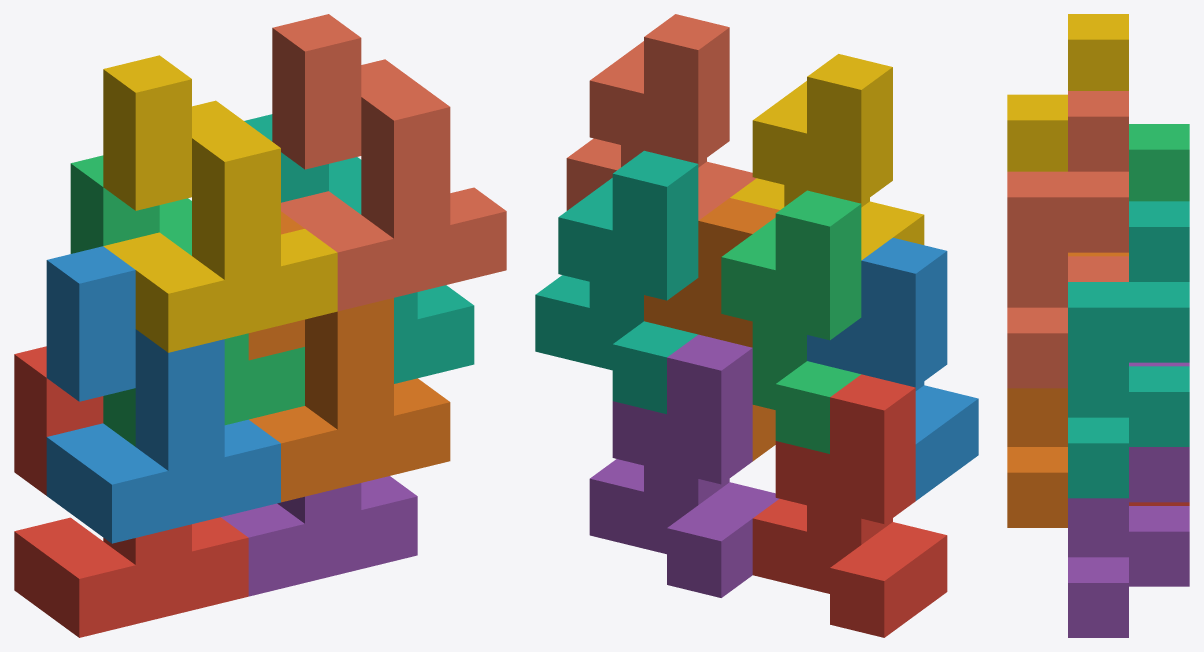
File: tiling.obj
3 renders of one model, left to right at view 1: azimuth 30°, elevation 25°; view 2: azimuth 150°, elevation 25°; view 3: azimuth 270°, elevation 25°, orthographic. The views are drawn at different scales.
Visible parts, largest first — view 1: copy_1_domain_4, copy_1_domain_2, copy_1_domain_8, copy_1_domain_1, copy_1_domain_6, copy_1_domain_5, copy_1_domain_3, copy_1_domain_7; view 2: copy_1_domain_1, copy_1_domain_5, copy_1_domain_7, copy_1_domain_3, copy_1_domain_8, copy_1_domain_4, copy_1_domain_2, copy_1_domain_6; view 3: copy_1_domain_7, copy_1_domain_8, copy_1_domain_5, copy_1_domain_4, copy_1_domain_6, copy_1_domain_3.
Boxes of the visible parts, x1,y1,x2,y2 form: copy_1_domain_4: [103, 55, 337, 352]; copy_1_domain_2: [46, 246, 280, 543]; copy_1_domain_8: [272, 14, 506, 311]; copy_1_domain_1: [14, 346, 248, 637]; copy_1_domain_6: [248, 211, 450, 502]; copy_1_domain_5: [221, 476, 417, 596]; copy_1_domain_3: [70, 155, 304, 446]; copy_1_domain_7: [244, 114, 474, 383]; copy_1_domain_1: [752, 374, 947, 637]; copy_1_domain_5: [589, 334, 779, 597]; copy_1_domain_7: [535, 150, 698, 414]; copy_1_domain_3: [721, 190, 861, 453]; copy_1_domain_8: [566, 14, 756, 220]; copy_1_domain_4: [730, 54, 924, 260]; copy_1_domain_2: [807, 237, 978, 500]; copy_1_domain_6: [644, 198, 779, 461]; copy_1_domain_7: [1068, 201, 1189, 498]; copy_1_domain_8: [1007, 91, 1128, 388]; copy_1_domain_5: [1068, 362, 1189, 637]; copy_1_domain_4: [1007, 14, 1128, 171]; copy_1_domain_6: [1007, 252, 1128, 527]; copy_1_domain_3: [1129, 124, 1189, 201].
Bounding box in the file's own units: 7 × 9 × 3.
